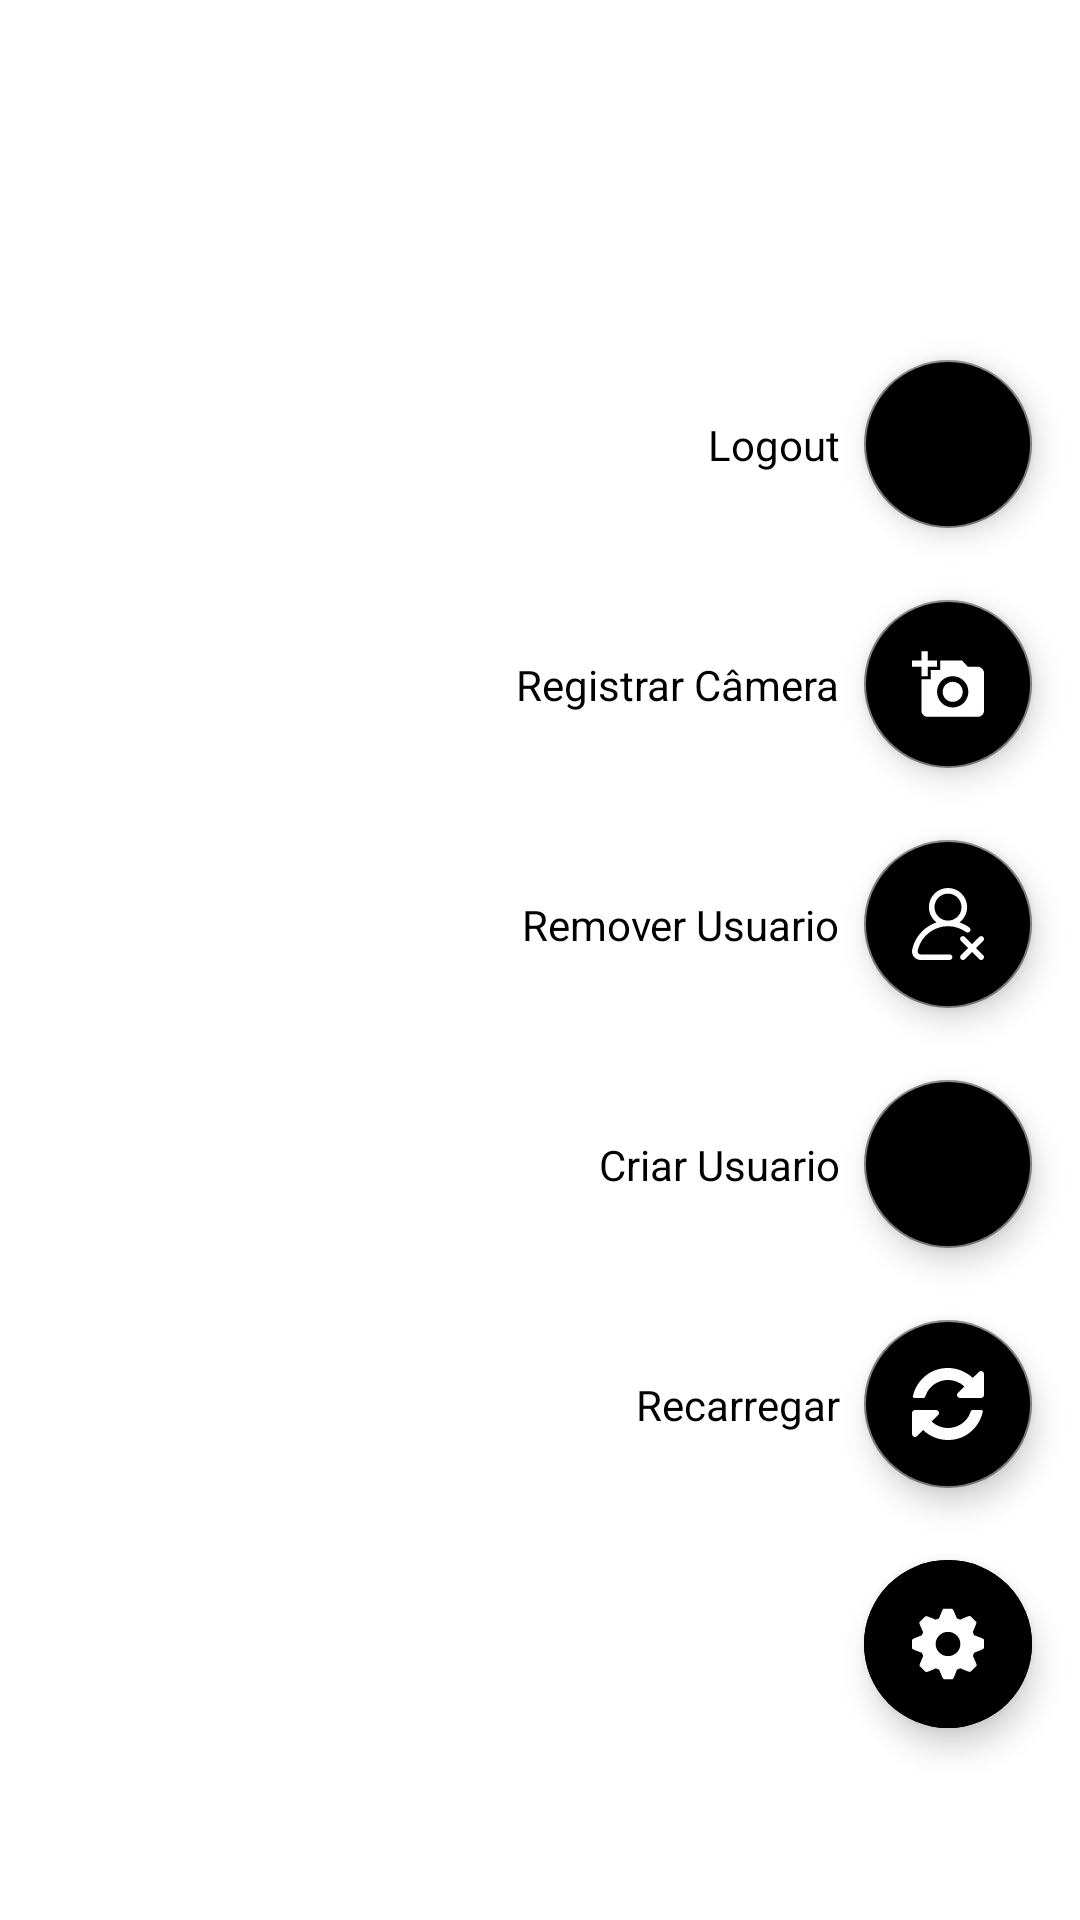

Named icons in this screenshot (1080 × 1920) and their bounding boxes, bbox(x1, y1, x2, y2):
gear option: bbox(864, 1560, 1032, 1728)
